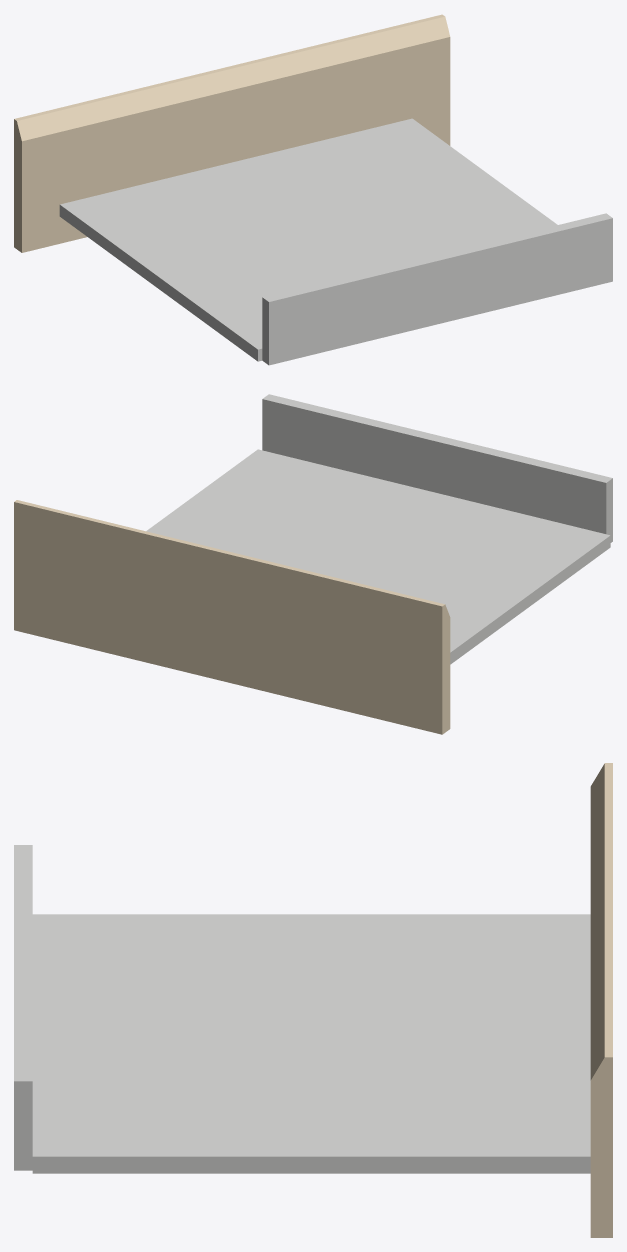
The model's file is skuff_OF3_3.glb.
3 renders of one model, top to bottom at view 1: azimuth 30°, elevation 25°; view 2: azimuth 150°, elevation 25°; view 3: azimuth 270°, elevation 25°, orthographic. The views are drawn at different scales.
Size of the model in its own units: 594 by 170 by 511.
